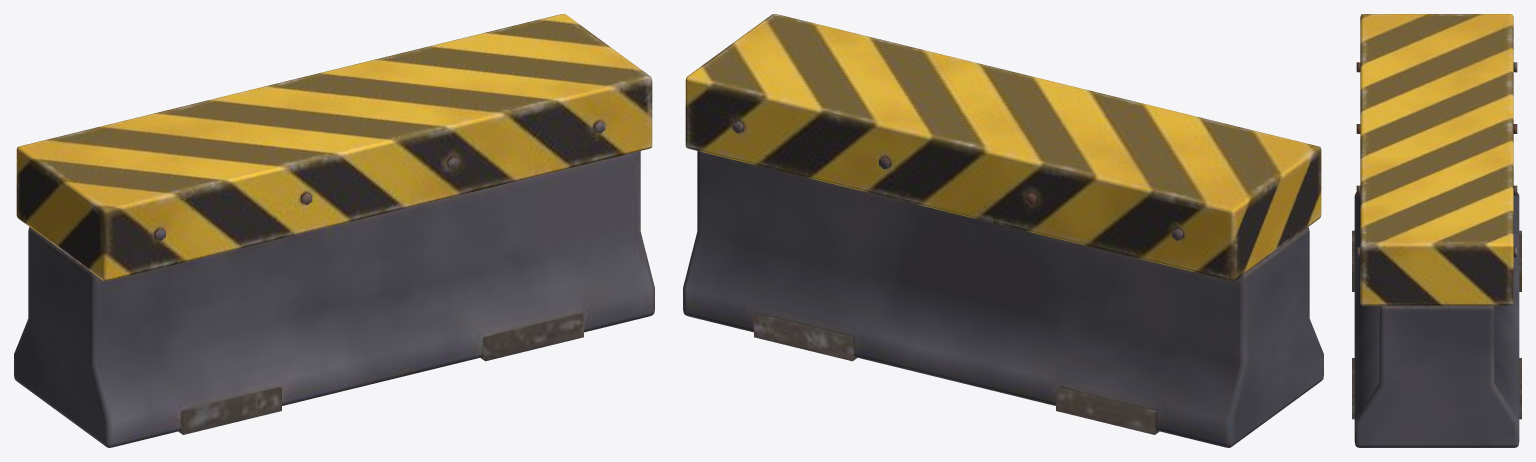
The model's file is arena_barrier.glb.
3 renders of one model, left to right at view 1: azimuth 30°, elevation 25°; view 2: azimuth 150°, elevation 25°; view 3: azimuth 270°, elevation 25°, orthographic. The views are drawn at different scales.
Parts seen in each view (by area): view 1: seg; view 2: seg; view 3: seg.
Boxes of the visible parts, x1,y1,x2,y2 form: seg: (14,14,654,447); seg: (683,14,1323,447); seg: (1352,14,1521,447).
Size of the model in its own units: 2 by 0.83 by 0.62.
1 material, 1 textured.
